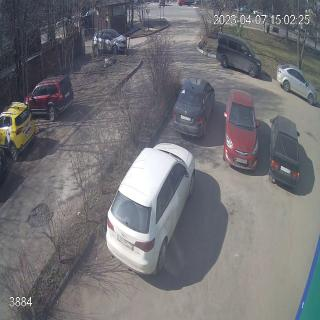Car: (106, 142, 195, 276), (223, 89, 260, 171), (172, 77, 215, 138), (268, 114, 300, 188), (25, 74, 74, 122), (0, 101, 36, 162), (216, 32, 262, 78), (276, 64, 318, 105), (93, 28, 127, 55), (0, 147, 7, 183), (177, 0, 195, 6), (86, 7, 98, 16), (253, 9, 263, 15), (159, 0, 165, 6)
